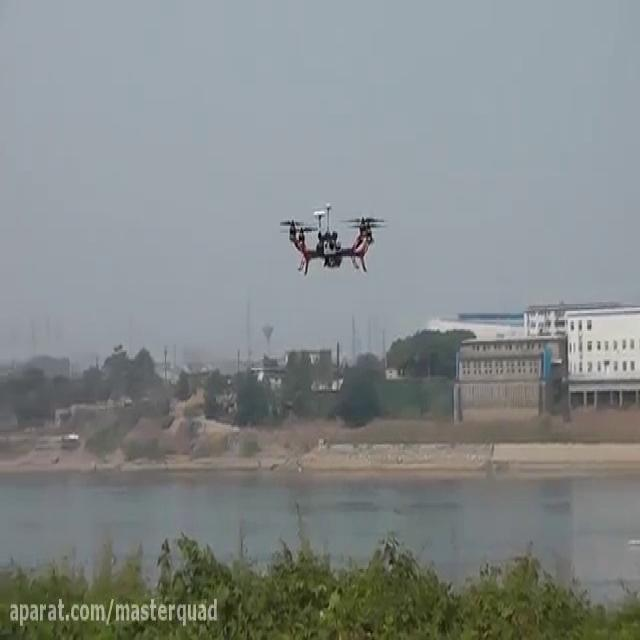drone: (276, 197, 388, 281)
